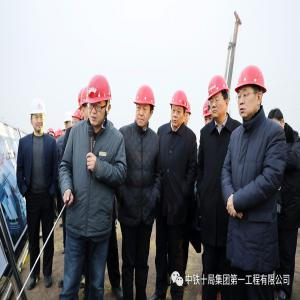none: (269, 108, 286, 130)
red: (237, 68, 266, 120), (87, 75, 113, 123), (133, 84, 156, 128), (209, 76, 231, 120), (171, 91, 188, 127), (80, 89, 89, 120), (203, 99, 213, 124), (184, 101, 193, 126), (73, 109, 83, 125)
white: (30, 100, 48, 135), (64, 112, 74, 131)
